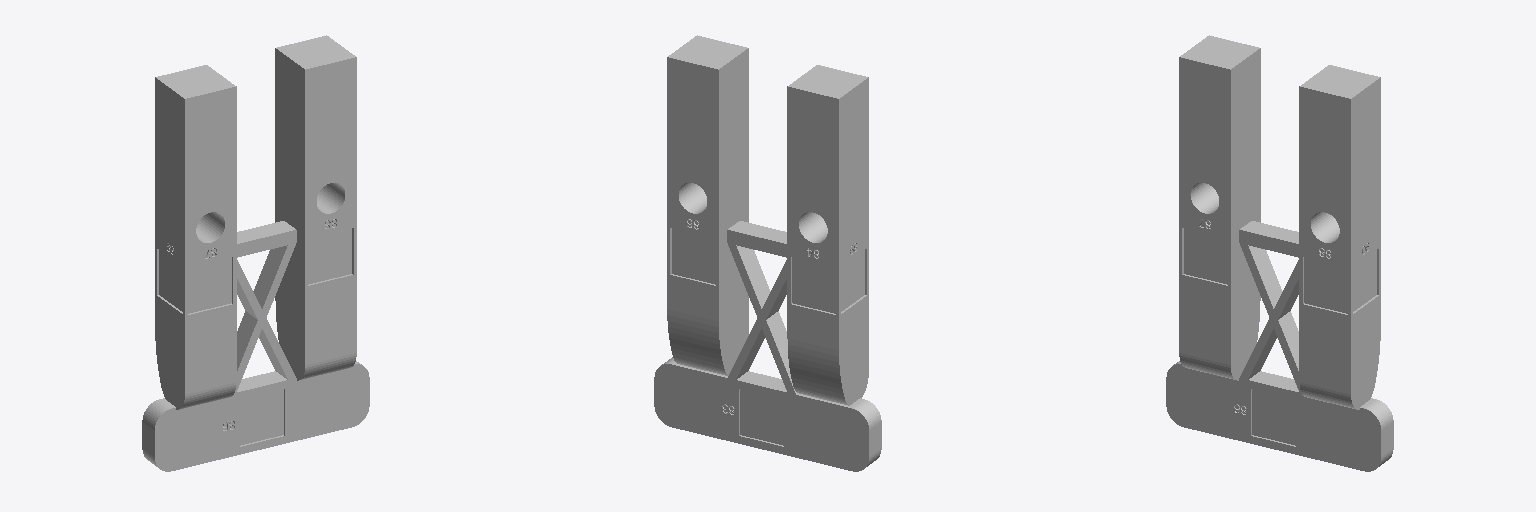
Rendered from chair_back.obj.
The picture shows the model from 3 angles: view 1: azimuth 30°, elevation 25°; view 2: azimuth 150°, elevation 25°; view 3: azimuth 330°, elevation 25°; orthographic projection.
Visible parts, largest first — view 1: chair_back_placeholder, chair_back_placeholder.006, chair_back_placeholder.004, chair_back_placeholder.005, chair_back_placeholder.008; view 2: chair_back_placeholder, chair_back_placeholder.002, chair_back_placeholder.001, chair_back_placeholder.003, chair_back_placeholder.008; view 3: chair_back_placeholder, chair_back_placeholder.005, chair_back_placeholder.004, chair_back_placeholder.006, chair_back_placeholder.007.
Boxes of the visible parts, box(x1,y1,x2,y2) form: chair_back_placeholder: box(142, 35, 369, 471); chair_back_placeholder.006: box(308, 228, 353, 285); chair_back_placeholder.004: box(240, 389, 284, 446); chair_back_placeholder.005: box(188, 257, 232, 314); chair_back_placeholder.008: box(157, 249, 182, 313); chair_back_placeholder: box(654, 35, 881, 471); chair_back_placeholder.002: box(670, 228, 715, 285); chair_back_placeholder.001: box(791, 257, 835, 314); chair_back_placeholder.003: box(739, 389, 783, 446); chair_back_placeholder.008: box(841, 249, 866, 313); chair_back_placeholder: box(1166, 35, 1393, 471); chair_back_placeholder.005: box(1182, 228, 1227, 285); chair_back_placeholder.004: box(1251, 389, 1295, 446); chair_back_placeholder.006: box(1303, 257, 1347, 314); chair_back_placeholder.007: box(1353, 249, 1378, 313).
Bounding box in the file's own units: 0.125 × 0.21 × 0.03.